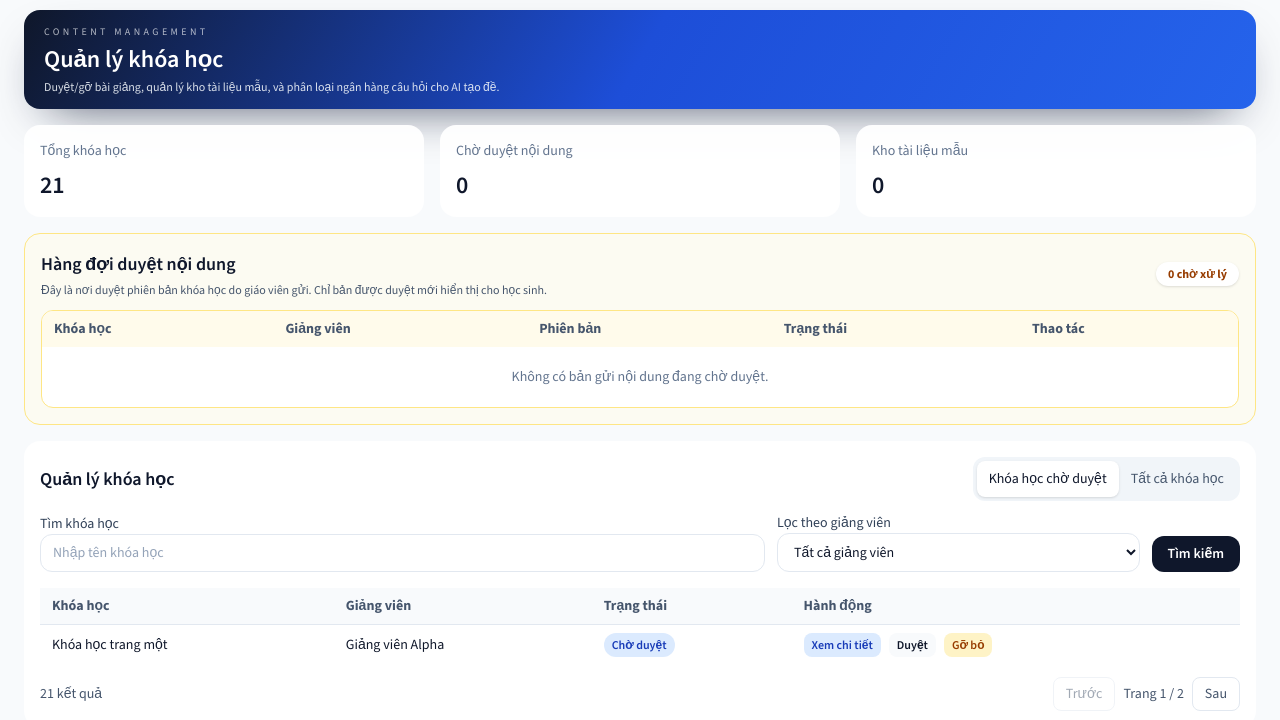
Test: AdminContentManagementPage course filters › returns to the last valid page when moderation empties the current page
The width and height of the screenshot is (1280, 720).
Expected: the text "Khóa học trang một" is shown, [40,624,334,665]
Click the button with aria-label "Trang sau" at [1216, 694], box [1192,677,1240,711]
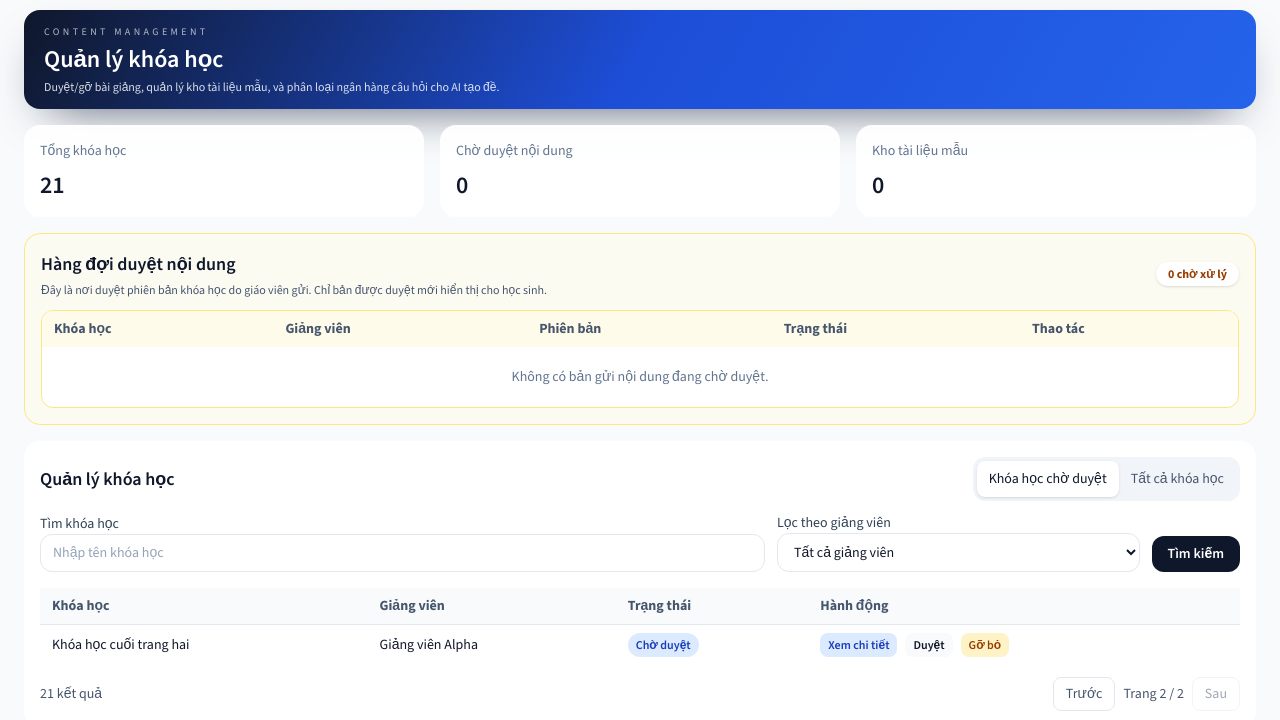
Expected: the text "Khóa học cuối trang hai" is shown, [40,624,368,665]
Click the button "Duyệt" at [929, 645], box [906,633,953,657]
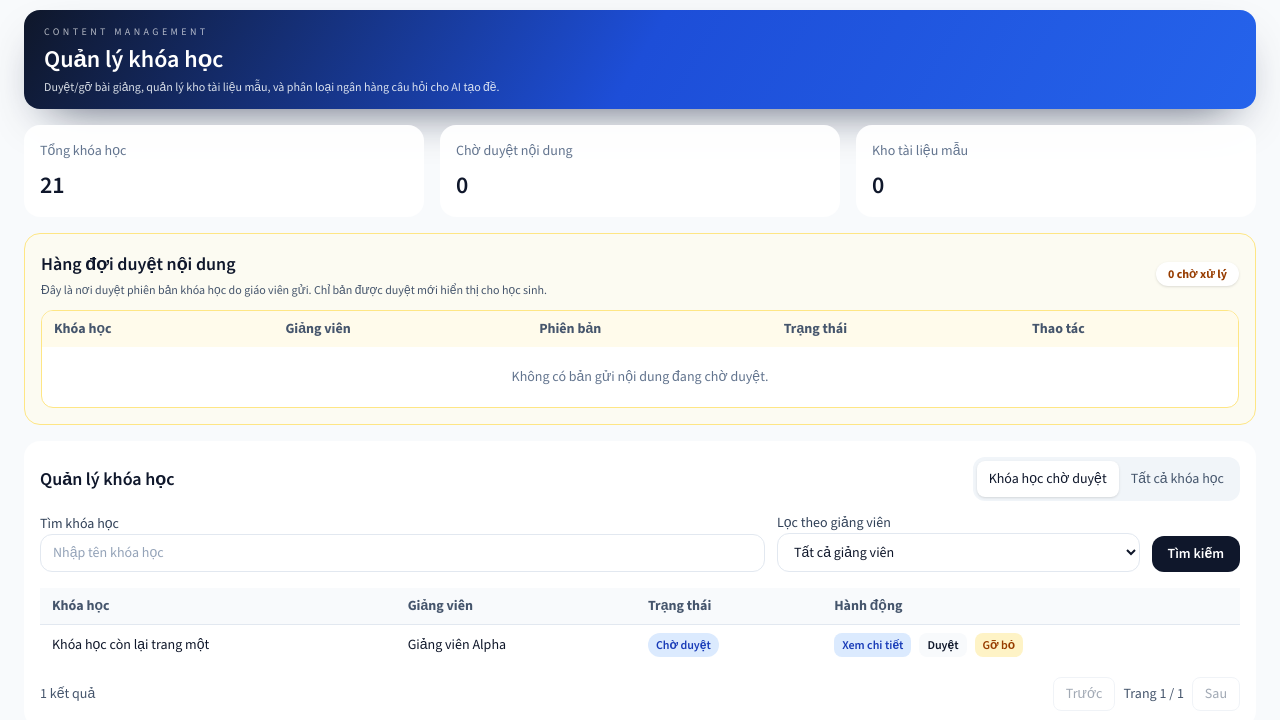
Expected: the text "Khóa học còn lại trang một" is shown, [40,624,396,665]
Expected: the text "Trang 1 / 1" is shown, [1124,684,1184,704]
